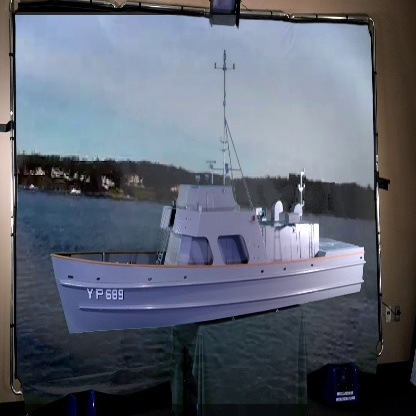YP689: (50, 50, 366, 339)
